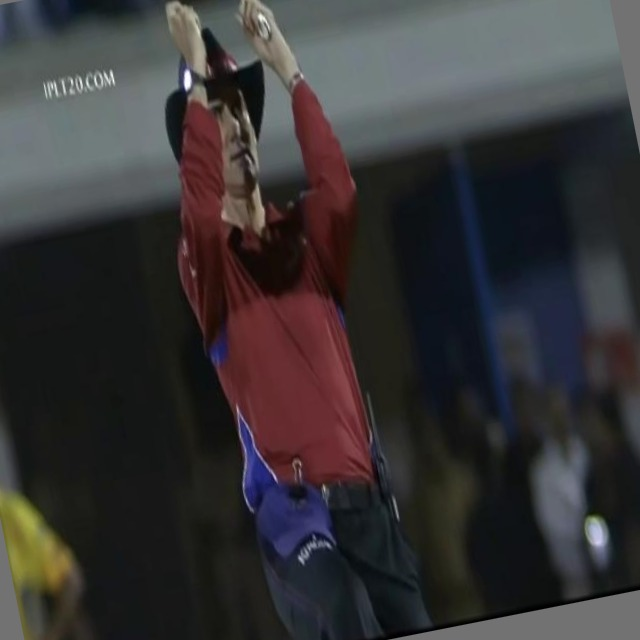Six: (112, 0, 458, 640)
